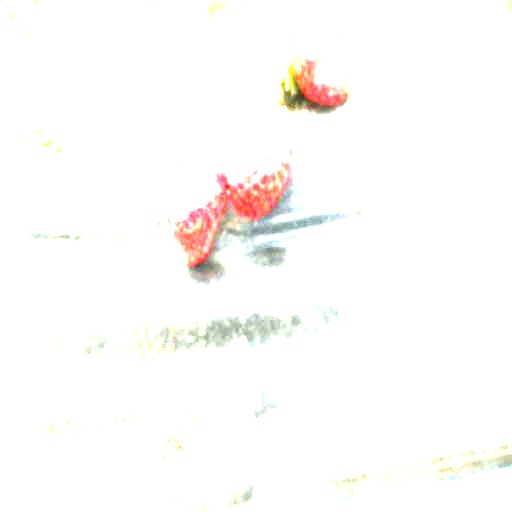Gray Mold: (124, 342, 197, 475)
